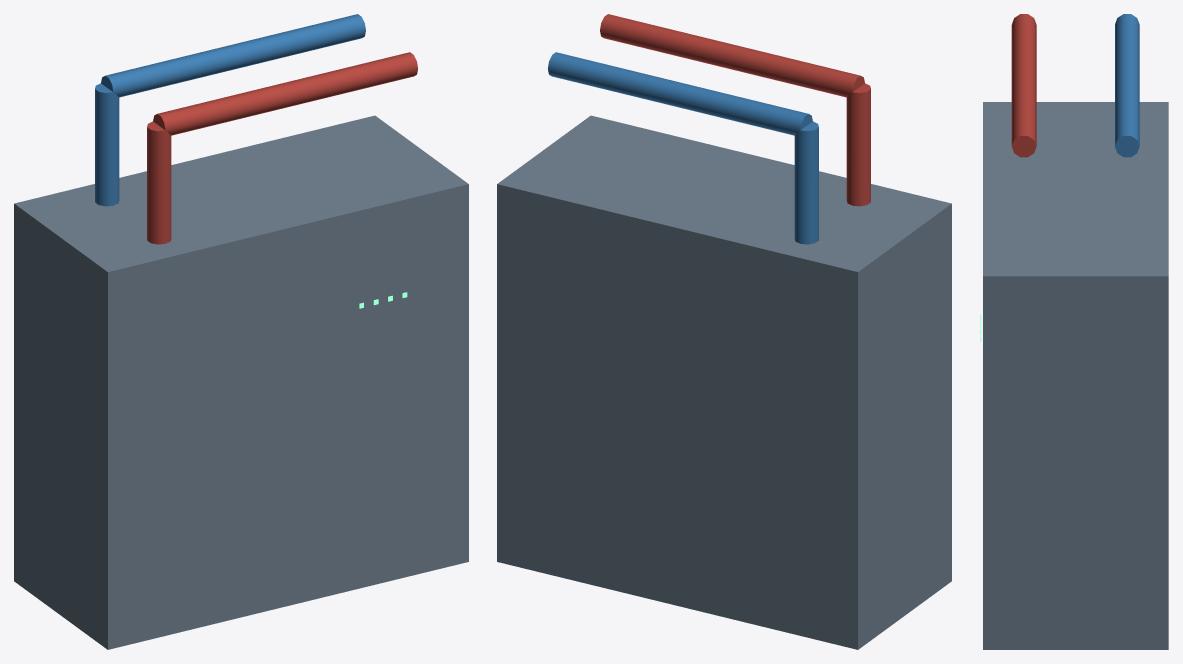
File: dc-cdu.glb
3 renders of one model, left to right at view 1: azimuth 30°, elevation 25°; view 2: azimuth 150°, elevation 25°; view 3: azimuth 270°, elevation 25°, orthographic.
Visible parts, largest first — view 1: kit-dc-cdu; view 2: kit-dc-cdu; view 3: kit-dc-cdu.
Boxes of the visible parts, x1,y1,x2,y2 form: kit-dc-cdu: (14, 14, 468, 649); kit-dc-cdu: (497, 14, 951, 649); kit-dc-cdu: (983, 14, 1168, 649).
Size of the model in its own units: 2 by 2.66 by 0.912.
